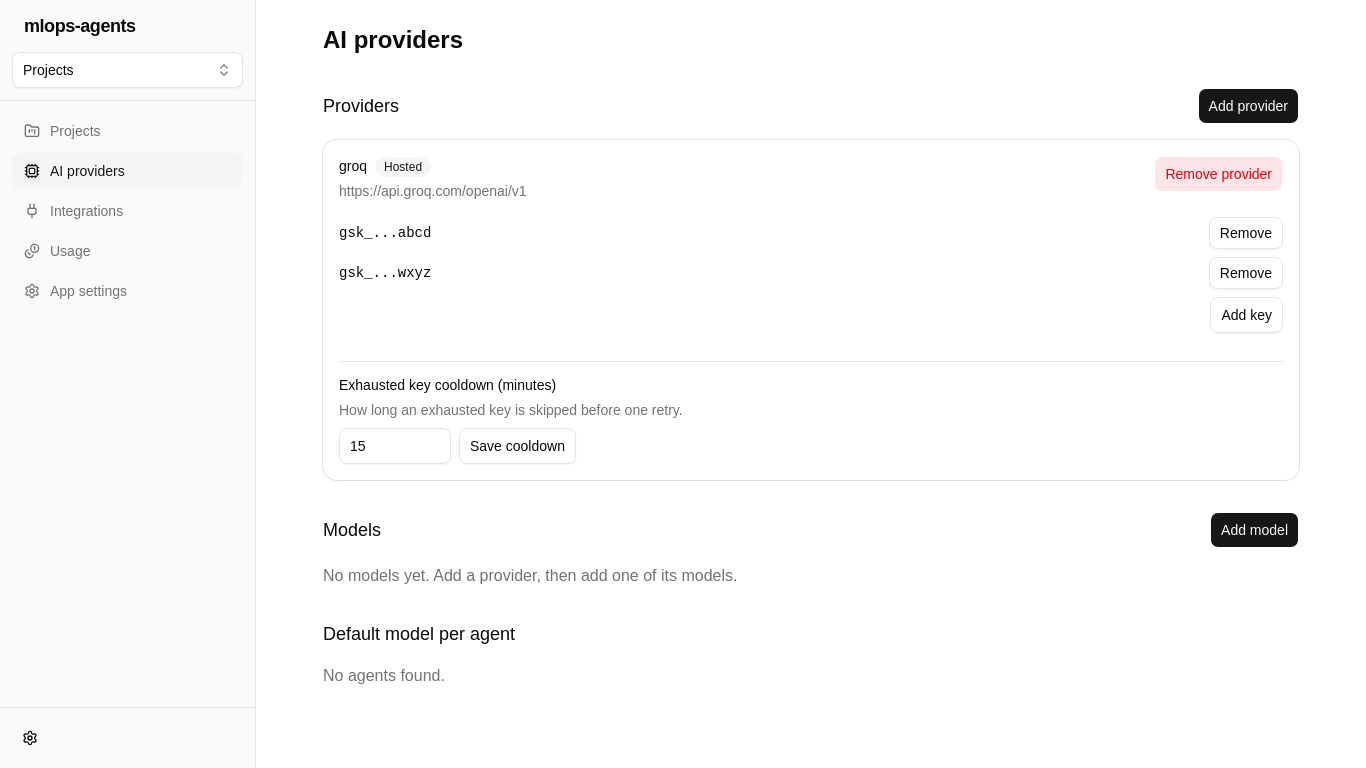
Test: AI providers page › removes a key by its current position and renders the returned provider
Click the button with aria-label "Remove key gsk_...wxyz" at coordinates (1246, 273), box [1209, 257, 1283, 289]
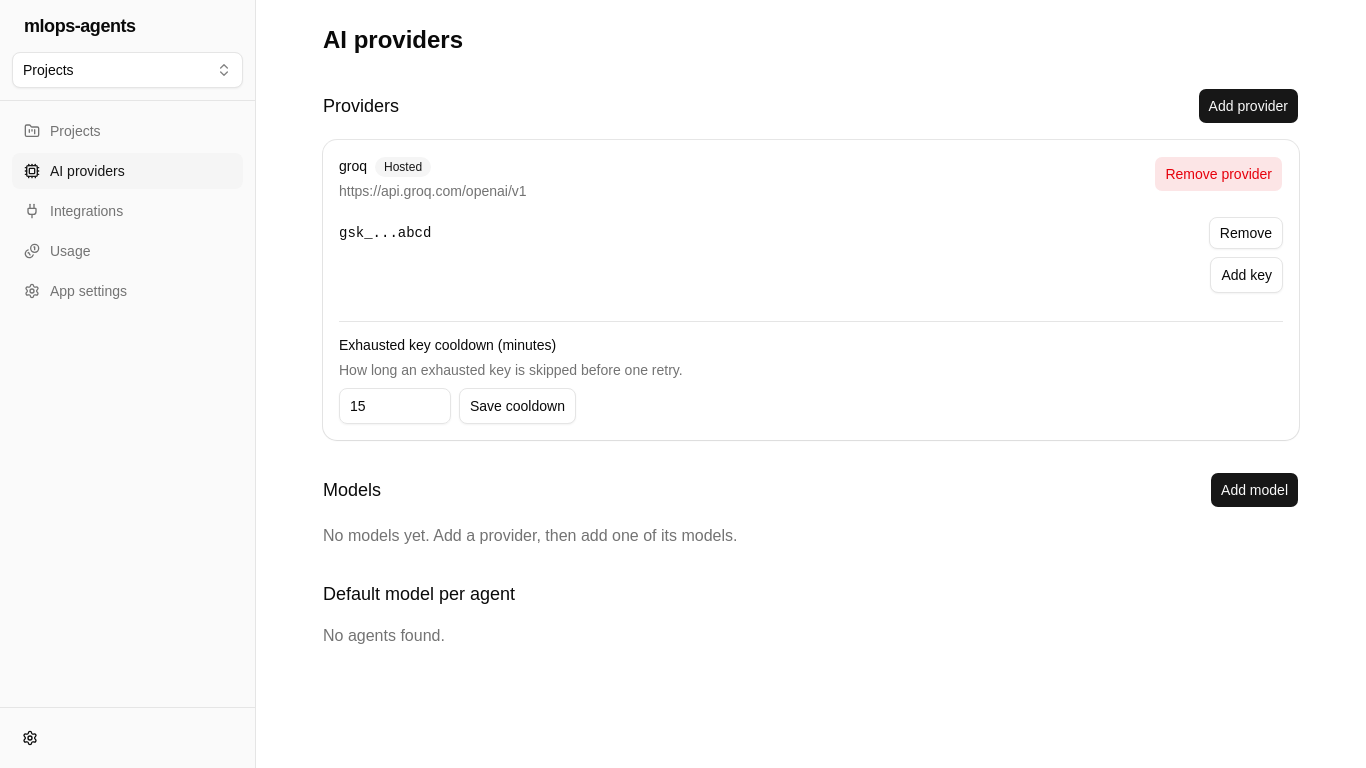
Expected: the text "gsk_...abcd" is shown, [339, 223, 431, 243]
Expected: the text "gsk_...wxyz" is gone
